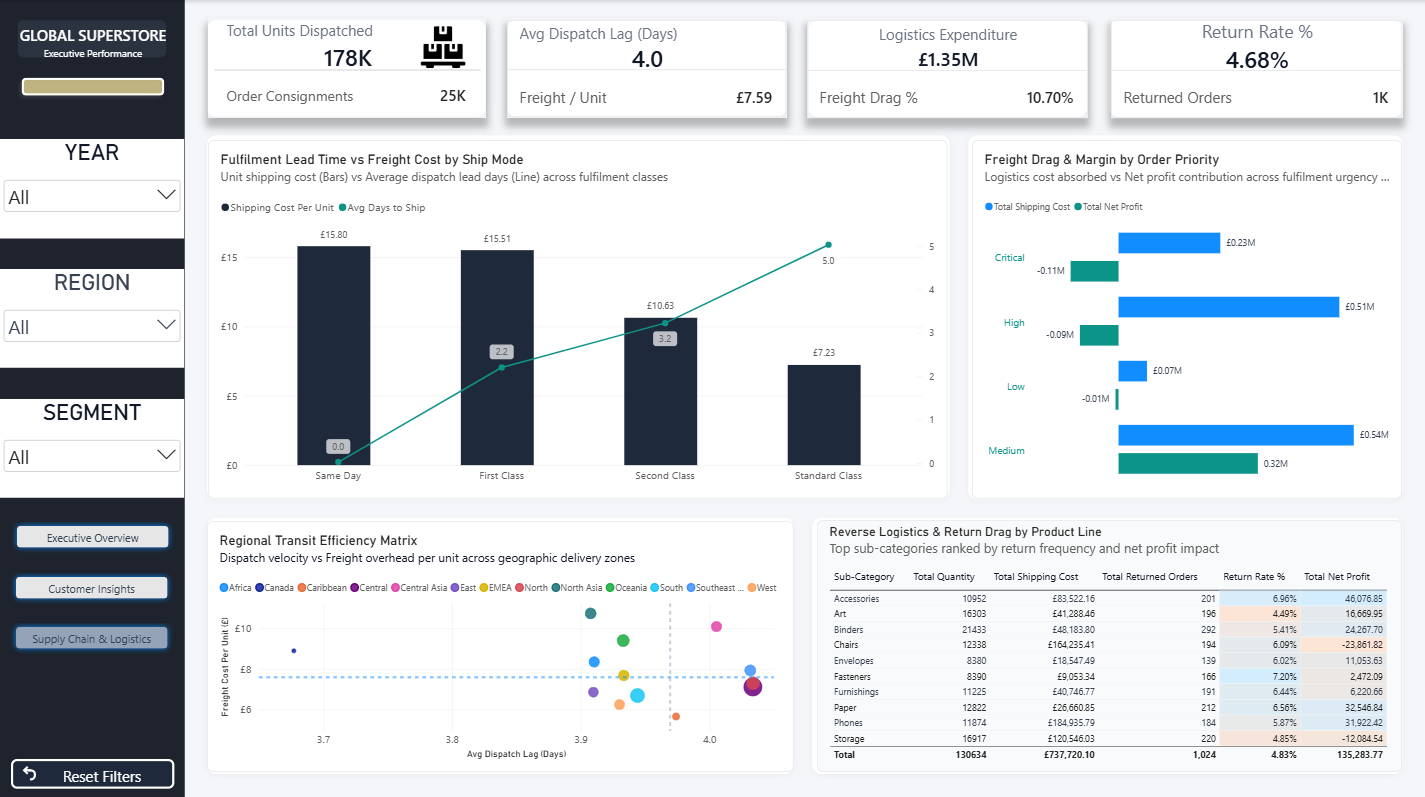

The dashboard page shown, as its layout file describes it:
{"tool":"powerbi","page":{"name":"Supply Chain & Logistics","canvas":[1920,1080],"ordinal":2},"visuals":[{"type":"shape","title":"GLOBAL SUPERSTORE","box":[20.2,33.7,210,104],"z":0},{"type":"cardVisual","fields":{"Data":["Key Measures.Total Quantity"]},"box":[280.3,24.4,374.9,135.3],"z":1000},{"type":"cardVisual","fields":{"Data":["Key Measures.Avg Days to Ship"]},"box":[682.9,24.4,376.5,133.7],"z":2000},{"type":"cardVisual","fields":{"Data":["Key Measures.Total Shipping Cost"]},"box":[1087.1,24.4,378.1,135.3],"z":3000},{"type":"cardVisual","fields":{"Data":["Key Measures.Return Rate %"]},"box":[1496.2,24.4,392.8,135.3],"z":4000},{"type":"lineClusteredColumnComboChart","title":"Fulfilment Lead Time vs Freight Cost by Ship Mode","fields":{"Category":["Fact Orders Sales.Ship Mode"],"Y":["Key Measures.Shipping Cost Per Unit"],"Y2":["Key Measures.Avg Days to Ship"]},"box":[279.4,188.2,996.1,482.9],"z":8000},{"type":"clusteredBarChart","title":"Freight Drag & Margin by Order Priority","fields":{"Category":["Fact Orders Sales.Order Priority"],"Y":["Key Measures.Total Shipping Cost","Key Measures.Total Net Profit"]},"box":[1308.9,188.5,579.1,483.4],"z":9000},{"type":"scatterChart","title":"Regional Transit Efficiency Matrix","fields":{"Category":["Dim Regions.Region","Dim Customers.Country"],"Series":["Dim Regions.Region"],"Size":["Key Measures.Total Sales"],"X":["Key Measures.Avg Days to Ship"],"Y":["Key Measures.Shipping Cost Per Unit"]},"box":[278.8,701.6,790.5,338],"z":10000},{"type":"tableEx","title":"Reverse Logistics & Return Drag by Product Line","fields":{"Values":["Dim Products.Sub-Category","Key Measures.Total Quantity","Key Measures.Total Shipping Cost","Key Measures.Total Returned Orders","Key Measures.Return Rate %","Key Measures.Total Net Profit"]},"box":[1100.2,700.2,787.8,339.4],"z":11000},{"type":"slicer","title":"YEAR","fields":{"Values":["Date Master.Year"]},"box":[0,187.4,247.7,133.7],"z":12000},{"type":"slicer","title":"REGION","fields":{"Values":["Dim Regions.Region"]},"box":[0,362.7,247.8,133],"z":13000},{"type":"slicer","title":"SEGMENT","fields":{"Values":["Dim Customers.Segment"]},"box":[0,537.3,247.7,133],"z":14000},{"type":"actionButton","box":[14.8,1022.1,219.5,40.4],"z":15000},{"type":"actionButton","box":[13.5,768.3,220,45],"z":16000},{"type":"actionButton","box":[14.8,700.2,220,45],"z":17000},{"type":"actionButton","box":[13.5,836.3,220,45],"z":18000},{"type":"image","box":[538.7,33.7,115,60],"z":18001}]}

Visuals, with their boxes in screenshot pixels (x1, y1, x2, y2), scaled from the page's 1920x1080 canvas onto the 1425x797 screenshot:
"GLOBAL SUPERSTORE" shape: [15,25,171,102]
cardVisual - Key Measures.Total Quantity: [208,18,486,118]
cardVisual - Key Measures.Avg Days to Ship: [507,18,786,117]
cardVisual - Key Measures.Total Shipping Cost: [807,18,1087,118]
cardVisual - Key Measures.Return Rate %: [1110,18,1402,118]
"Fulfilment Lead Time vs Freight Cost by Ship Mode" lineClusteredColumnComboChart: [207,139,947,495]
"Freight Drag & Margin by Order Priority" clusteredBarChart: [971,139,1401,496]
"Regional Transit Efficiency Matrix" scatterChart: [207,518,794,767]
"Reverse Logistics & Return Drag by Product Line" tableEx: [817,517,1401,767]
"YEAR" slicer: [0,138,184,237]
"REGION" slicer: [0,268,184,366]
"SEGMENT" slicer: [0,397,184,495]
actionButton: [11,754,174,784]
actionButton: [10,567,173,600]
actionButton: [11,517,174,550]
actionButton: [10,617,173,650]
image: [400,25,485,69]
